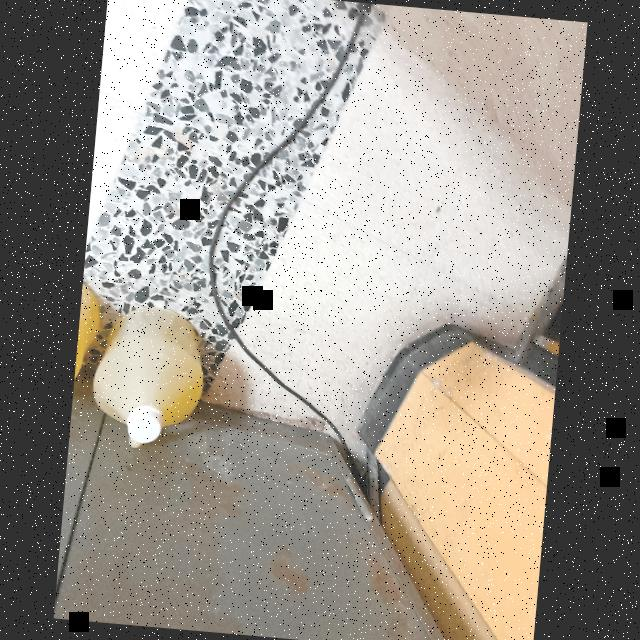chemical_plastic_gallon: (90, 298, 230, 461)
